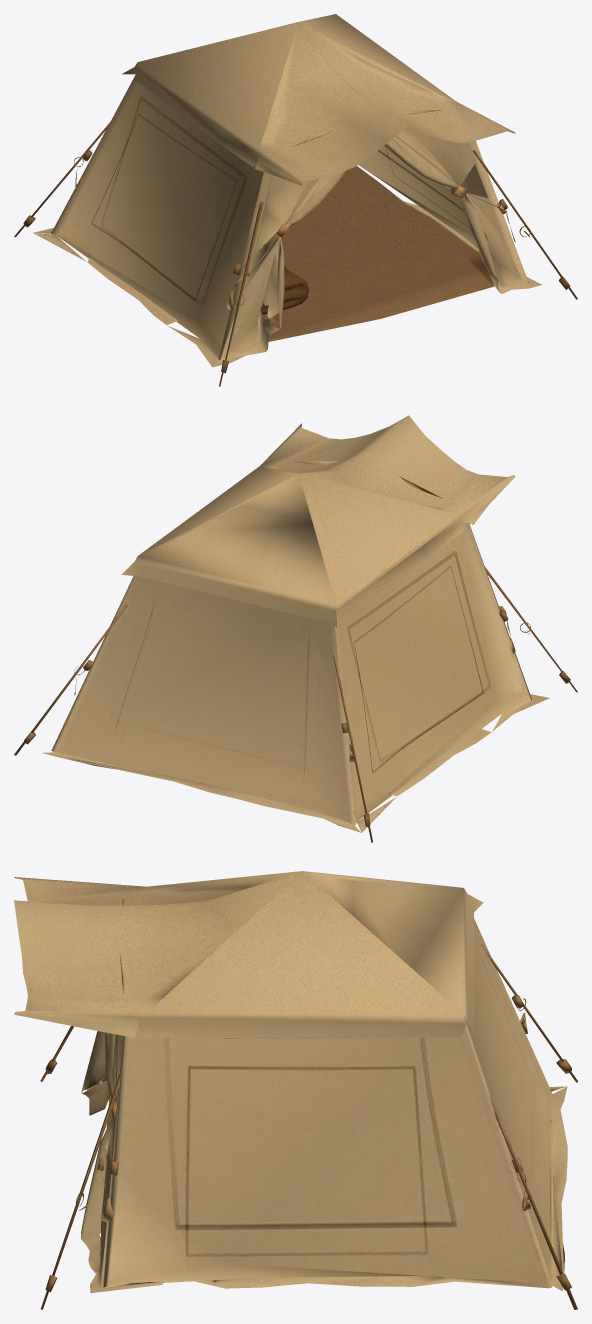
File: tent.glb
3 views of the same model, one above another, from view 1: azimuth 30°, elevation 25°; view 2: azimuth 150°, elevation 25°; view 3: azimuth 270°, elevation 25° (orthographic). The views are drawn at different scales.
Size of the model in its own units: 0.9067 by 0.6006 by 0.9434.
Materials: 1 (1 with a texture image).
